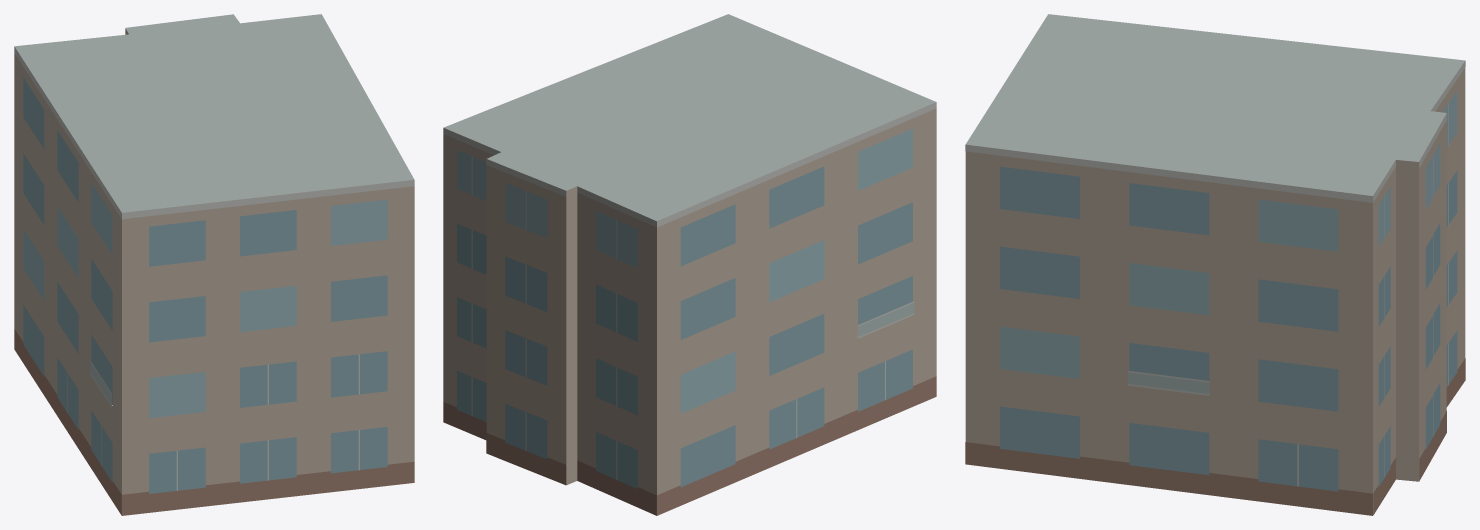
File: survey-upis-32738347.glb
3 views of the same model, side by side, from view 1: azimuth 30°, elevation 25°; view 2: azimuth 150°, elevation 25°; view 3: azimuth 270°, elevation 25° (orthographic). The views are drawn at different scales.
Visible parts, largest first — view 1: survey-upis-32738347.tmp; view 2: survey-upis-32738347.tmp; view 3: survey-upis-32738347.tmp.
Boxes of the visible parts, left/top/right/bottom form: survey-upis-32738347.tmp: left=14, top=14, right=414, bottom=515; survey-upis-32738347.tmp: left=443, top=14, right=936, bottom=515; survey-upis-32738347.tmp: left=965, top=14, right=1465, bottom=515.
Size of the model in its own units: 14.18 by 11.6 by 16.45.
